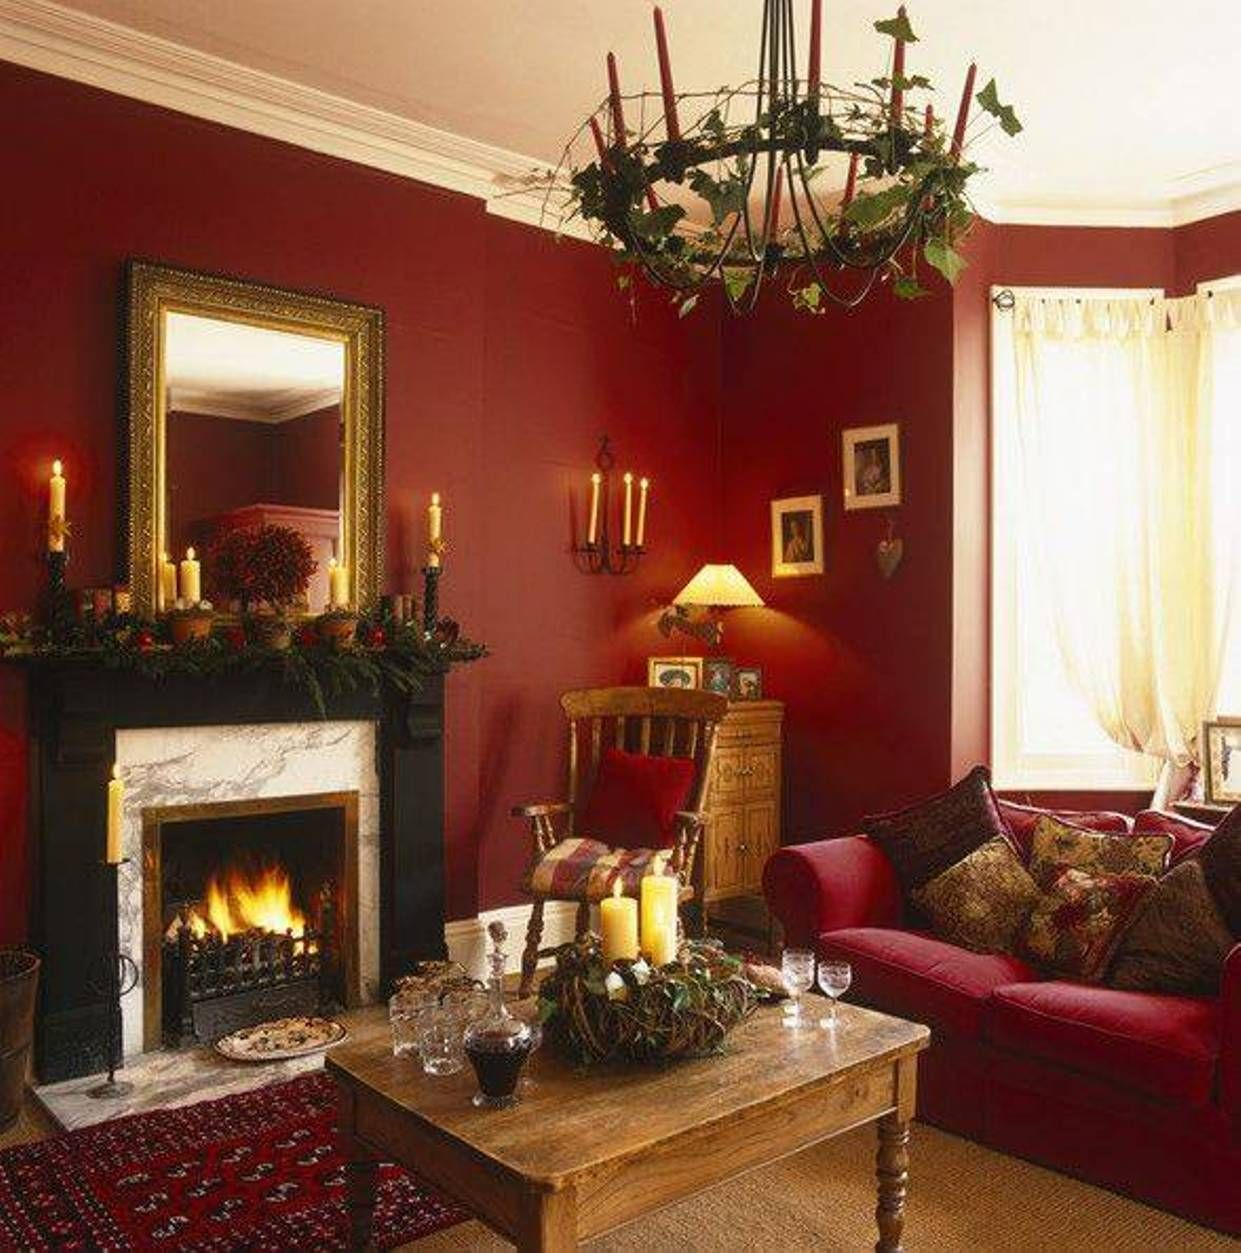coklat: (328, 1027, 921, 1253)
kuning: (599, 901, 680, 959)
merah: (768, 769, 1241, 1130), (583, 750, 688, 852)
